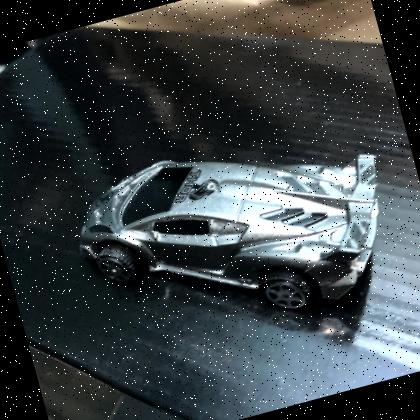Car: (79, 155, 380, 313)
